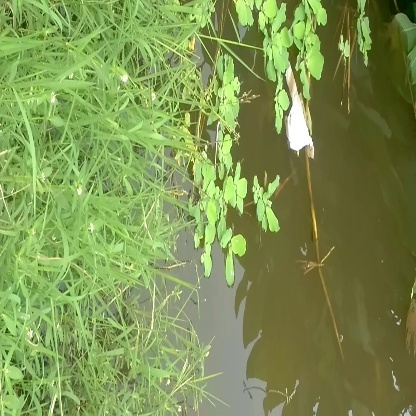plastic-bag: (277, 68, 325, 165)
